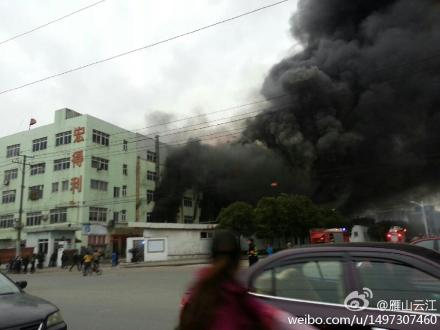smoke: (168, 2, 433, 200)
